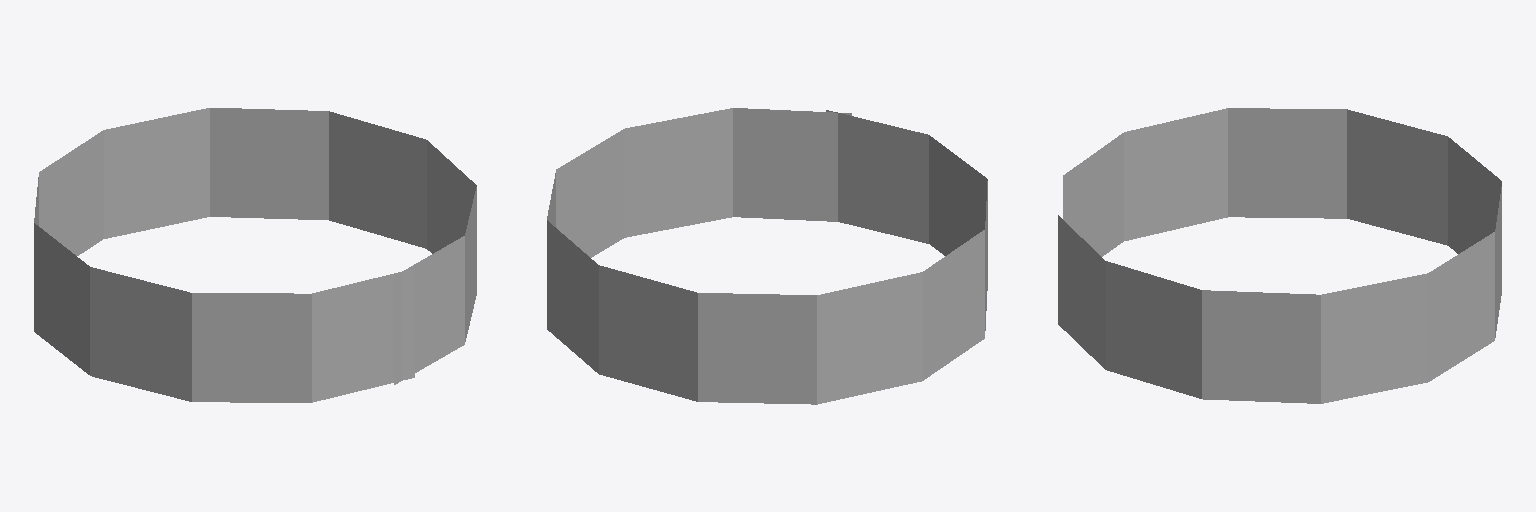
Rendered from regulus_boss_orbiting_band.obj.
3 renders of one model, left to right at view 1: azimuth 30°, elevation 25°; view 2: azimuth 150°, elevation 25°; view 3: azimuth 270°, elevation 25°, orthographic.
Parts seen in each view (by area): view 1: Plane; view 2: Plane; view 3: Plane.
Boxes of the visible parts, x1=… form: Plane: x1=34, y1=108, x2=476, y2=402; Plane: x1=547, y1=108, x2=987, y2=404; Plane: x1=1058, y1=108, x2=1501, y2=403.
Size of the model in its own units: 14.65 by 4 by 14.74.